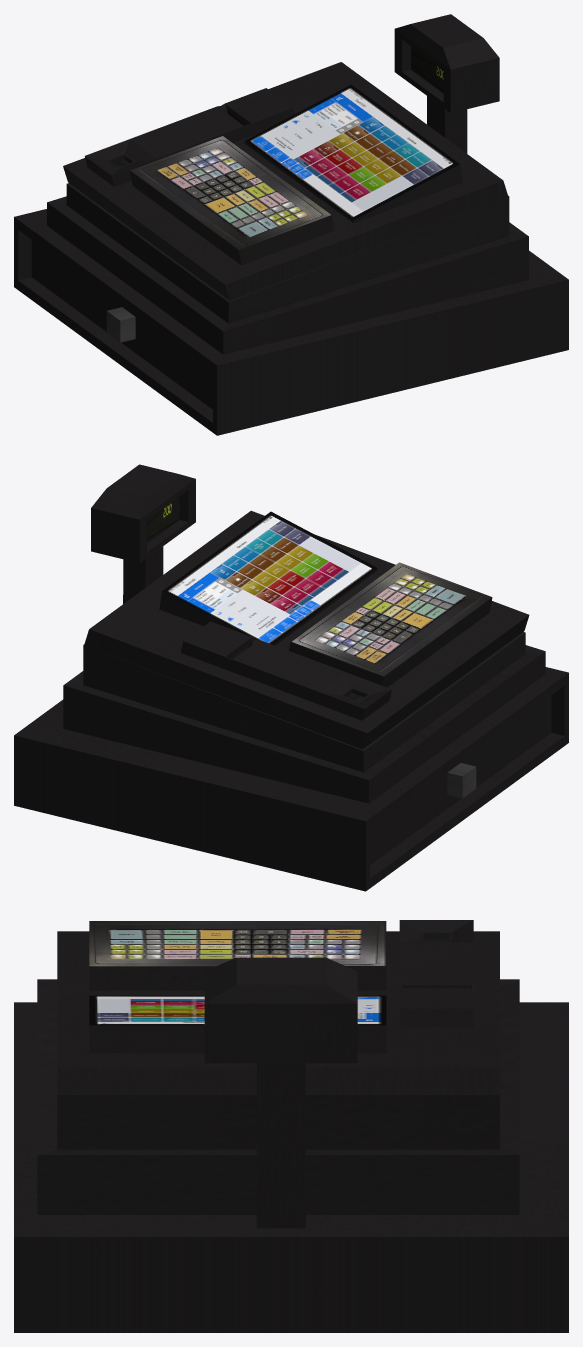
File: Mesh_Static_CajaRegistradora_00.fbx
The picture shows the model from 3 angles, top to bottom: view 1: azimuth 30°, elevation 25°; view 2: azimuth 150°, elevation 25°; view 3: azimuth 270°, elevation 25°; orthographic projection. The views are drawn at different scales.
Visible parts, largest first — view 1: Cube.033; view 2: Cube.033; view 3: Cube.033.
Boxes of the visible parts, x1,y1,x2,y2 form: Cube.033: (14, 14, 568, 435); Cube.033: (14, 464, 568, 891); Cube.033: (14, 920, 568, 1332).
Size of the model in its own units: 201 by 138 by 200.
